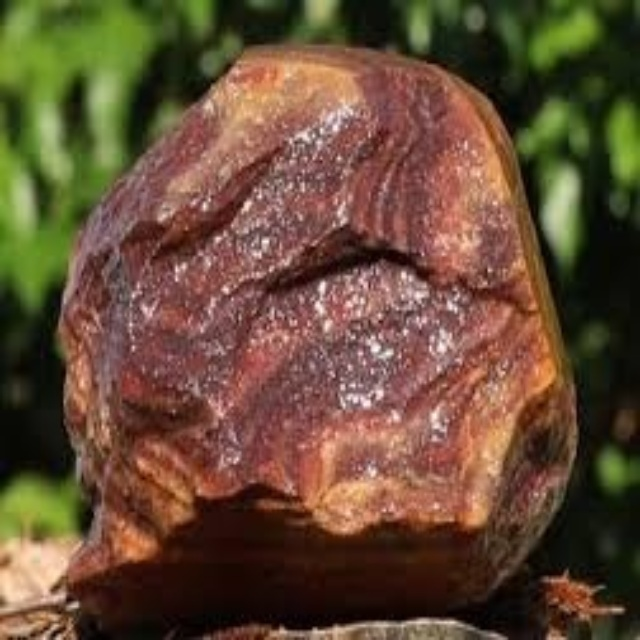obstacle: (61, 48, 574, 634)
